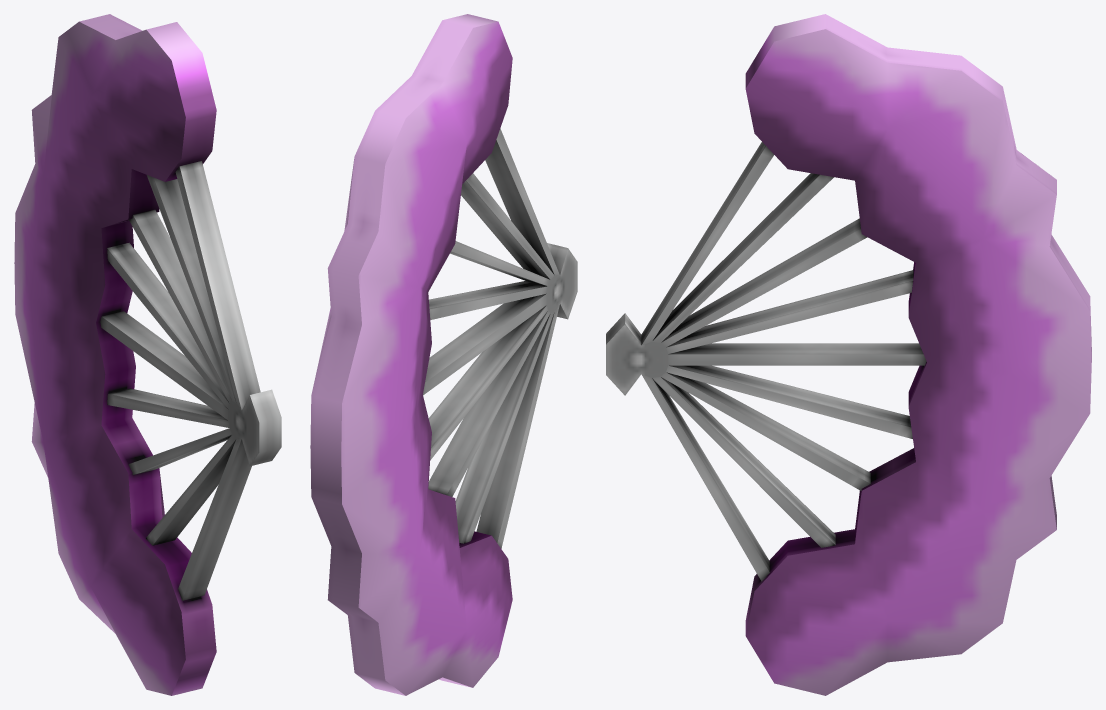
The model's file is club012.fbx.
3 renders of one model, left to right at view 1: azimuth 30°, elevation 25°; view 2: azimuth 150°, elevation 25°; view 3: azimuth 270°, elevation 25°, orthographic.
Visible parts, largest first — view 1: club012; view 2: club012; view 3: club012.
Boxes of the visible parts, left/top/right/bottom form: club012: left=14, top=14, right=281, bottom=695; club012: left=310, top=14, right=577, bottom=695; club012: left=606, top=14, right=1091, bottom=695.
Bounding box in the file's own units: 0.0529 × 0.4152 × 0.274.
